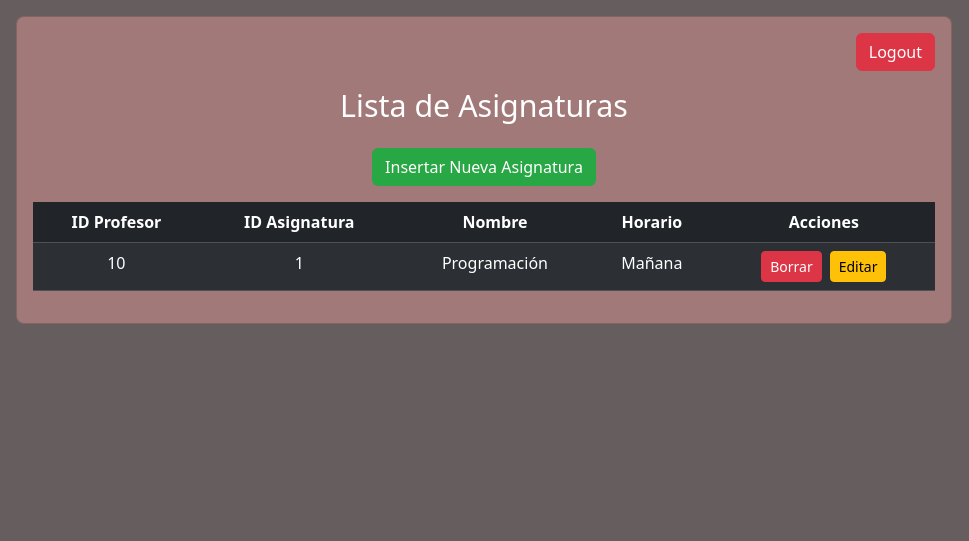
Test: Asignaturas component › cancela la edición y oculta el formulario de actualizar
Expected: the text "Programación" is shown, [399,242,591,290]
Click the button "Editar" at (858,266), box [830,250,886,282]
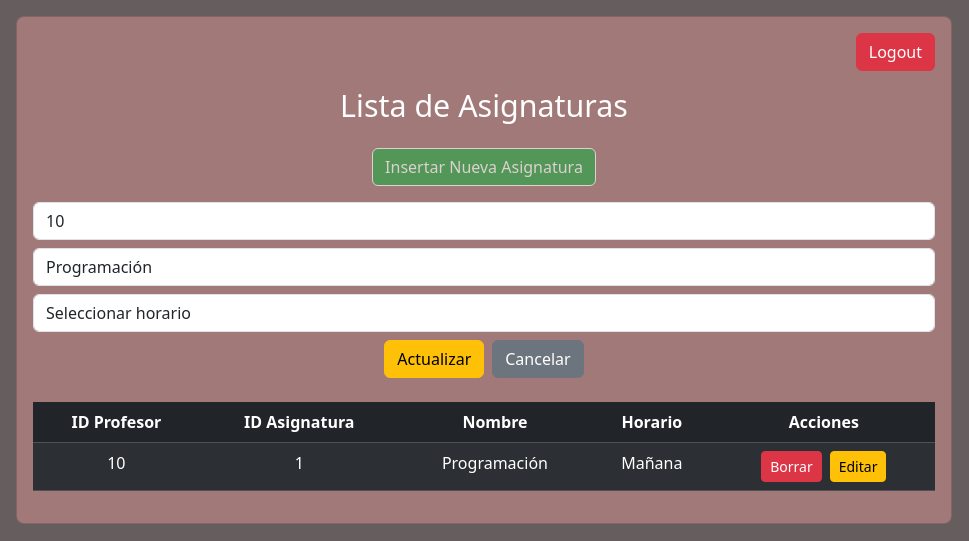
Expected: the button "Actualizar" is shown, [384,340,484,378]
Click the button "Cancelar" at (538,358), box [492,340,584,378]
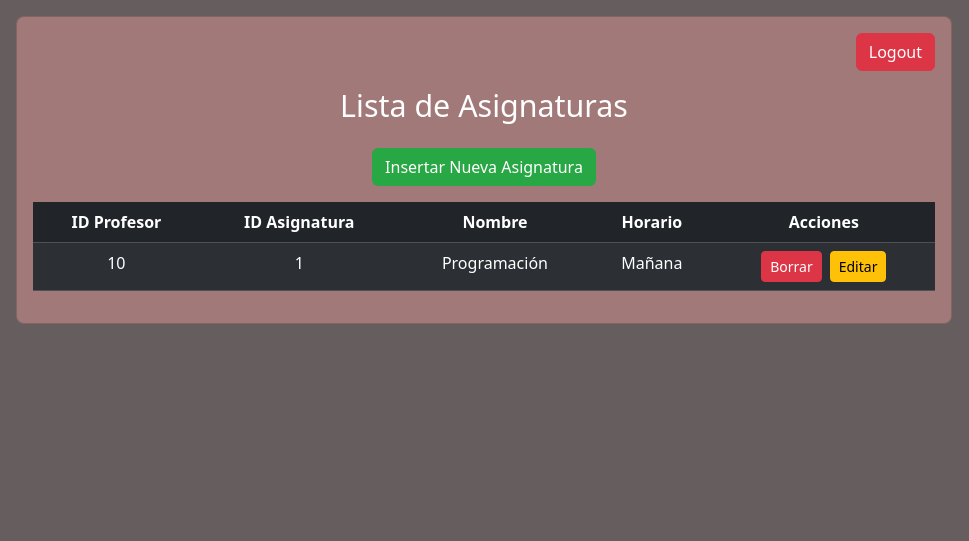
Expected: the button "Actualizar" is gone
